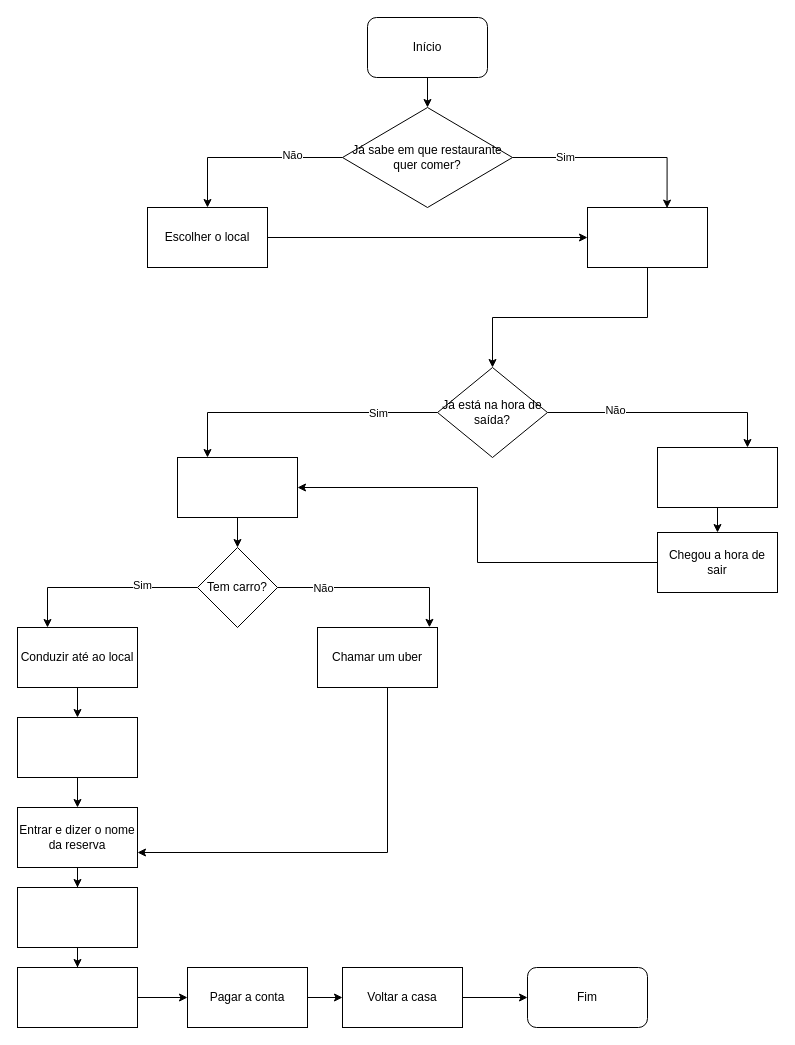
Image size: 795x1045. Some labels were removed from this diagram. The box of each missing label's shape, as (x1, y1, x2, y2) in pixels:
Escolher o que comer: (16, 886, 138, 948)
Estacionar: (16, 716, 138, 778)
Fazer a refeição: (16, 966, 138, 1028)
Ligar e fazer uma reserva: (586, 206, 708, 268)
Pegar na carteira e sair: (176, 456, 298, 518)
Sentar no sofá a ver televisão: (656, 446, 778, 508)
